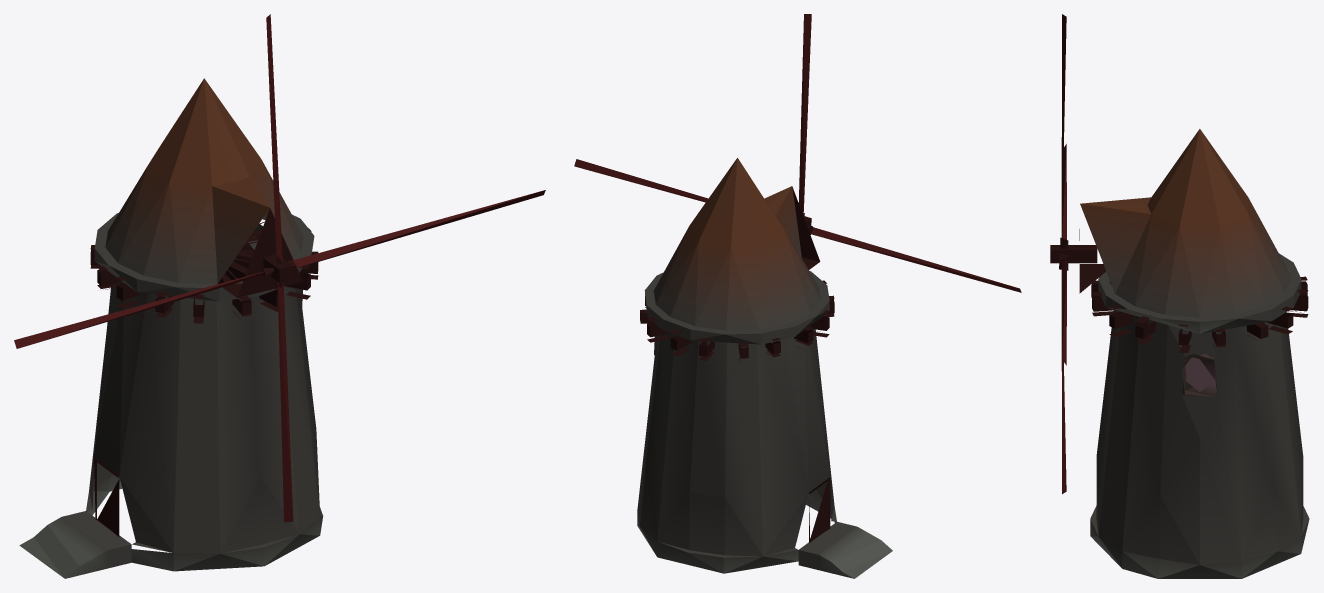
The model's file is windmill.zfix-v14.lod2.glb.
3 renders of one model, left to right at view 1: azimuth 30°, elevation 25°; view 2: azimuth 150°, elevation 25°; view 3: azimuth 270°, elevation 25°, orthographic. The views are drawn at different scales.
Visible parts, largest first — view 1: Object_4; view 2: Object_4; view 3: Object_4.
Boxes of the visible parts, left/top/right/bottom form: Object_4: left=14, top=14, right=545, bottom=578; Object_4: left=574, top=14, right=1021, bottom=578; Object_4: left=1050, top=14, right=1309, bottom=578.
Bounding box in the file's own units: 11.81 × 12 × 5.46.
